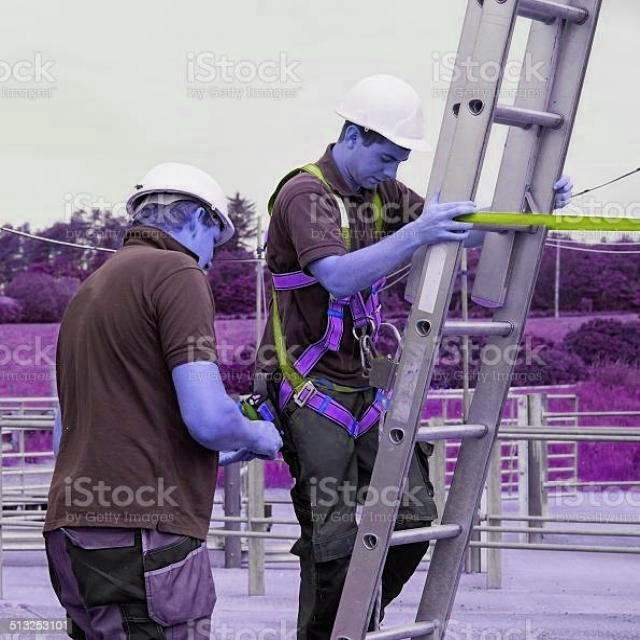safety belt: (257, 176, 445, 450)
